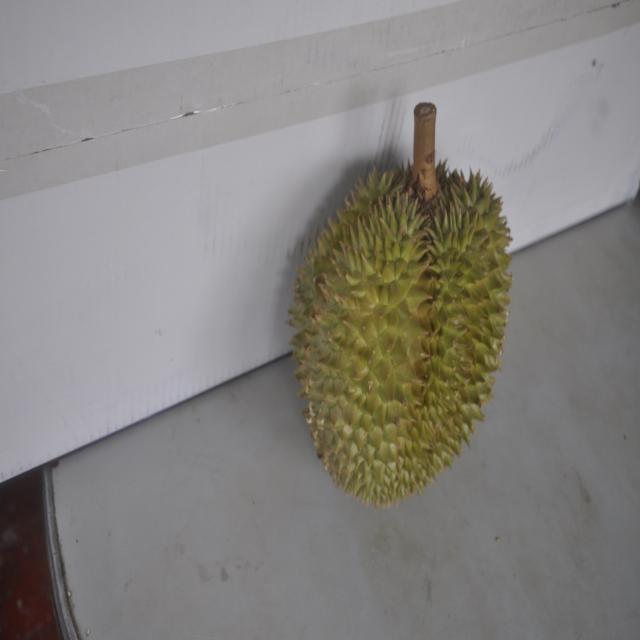mature: (288, 114, 513, 506)
